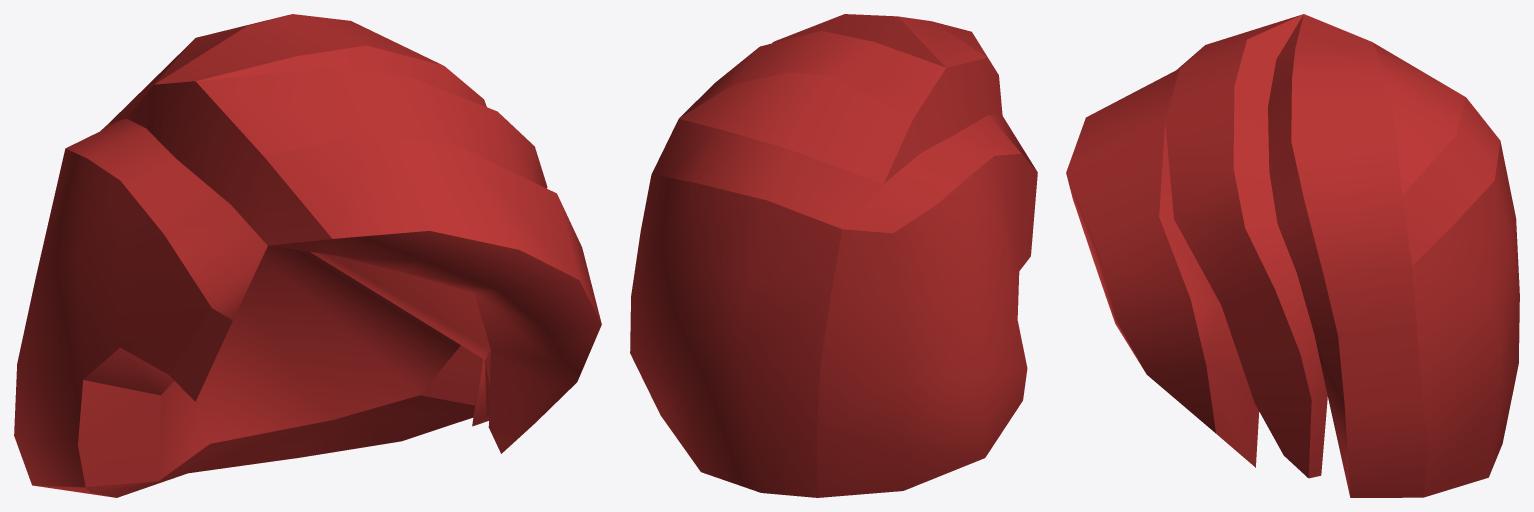
Rendered from Female_Hairs_06_v3.fbx.
3 renders of one model, left to right at view 1: azimuth 30°, elevation 25°; view 2: azimuth 150°, elevation 25°; view 3: azimuth 270°, elevation 25°, orthographic. The views are drawn at different scales.
Parts seen in each view (by area): view 1: Female_Hairs_06_v3; view 2: Female_Hairs_06_v3; view 3: Female_Hairs_06_v3.
Boxes of the visible parts, <box> form: Female_Hairs_06_v3: <box>14,14,601,497</box>; Female_Hairs_06_v3: <box>630,14,1037,497</box>; Female_Hairs_06_v3: <box>1066,14,1519,497</box>.
Size of the model in its own units: 65.75 by 68.56 by 69.7.
